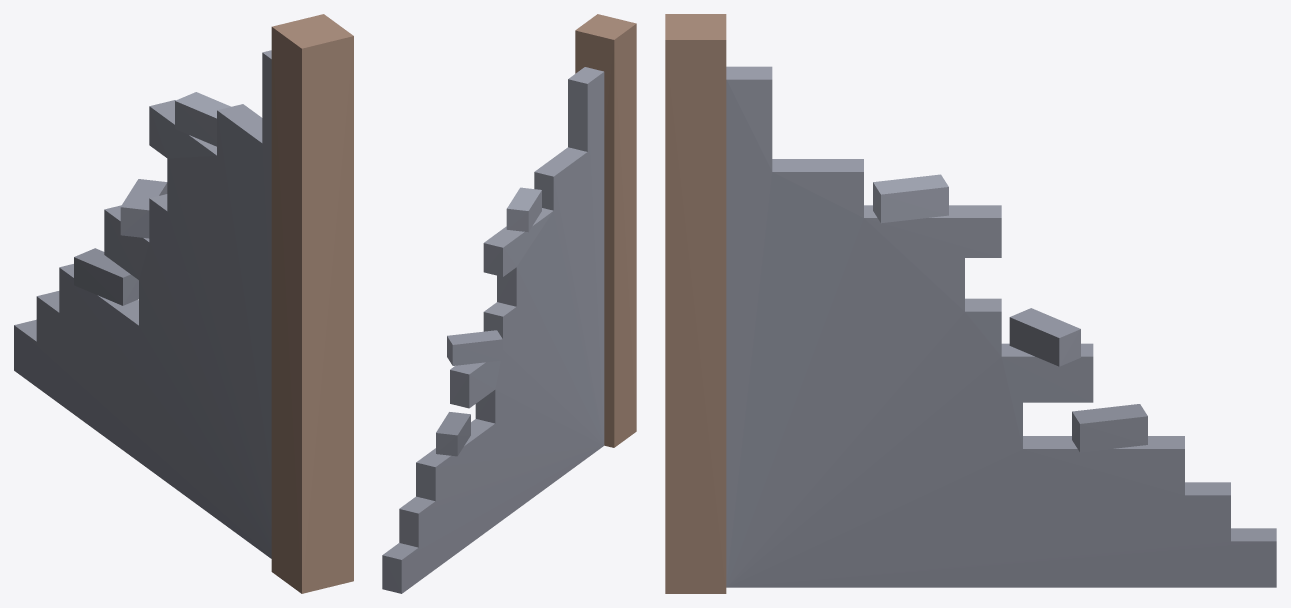
File: kenney_wall-broken.fbx
3 renders of one model, left to right at view 1: azimuth 30°, elevation 25°; view 2: azimuth 150°, elevation 25°; view 3: azimuth 270°, elevation 25°, orthographic. The views are drawn at different scales.
Parts seen in each view (by area): view 1: wall-broken; view 2: wall-broken; view 3: wall-broken.
Boxes of the visible parts, x1,y1,x2,y2 form: wall-broken: (14,14,353,593); wall-broken: (382,14,636,593); wall-broken: (665,14,1276,593).
Size of the model in its own units: 11.68 by 100 by 100.
